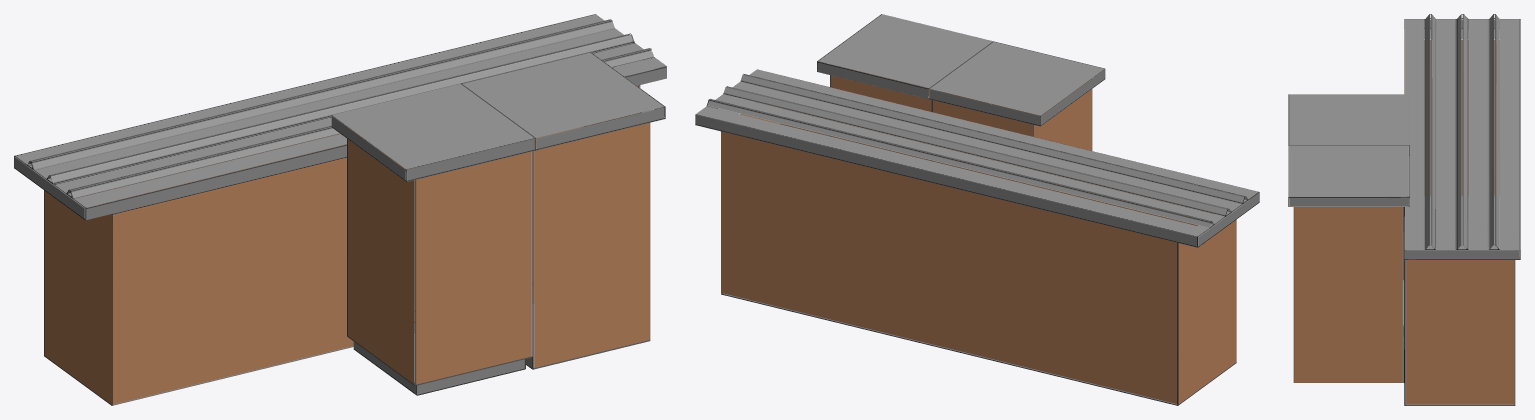
File: register_storage.fbx
The picture shows the model from 3 angles, left to right: view 1: azimuth 30°, elevation 25°; view 2: azimuth 150°, elevation 25°; view 3: azimuth 270°, elevation 25°; orthographic projection. The views are drawn at different scales.
Visible parts, largest first — view 1: Cube; view 2: Cube; view 3: Cube.
Part boxes in pixels (box(x1,y1,x2,y2)): Cube: box(14, 14, 666, 405); Cube: box(695, 14, 1259, 405); Cube: box(1288, 14, 1520, 405).
Bounding box in the file's own units: 988 × 380 × 420.
